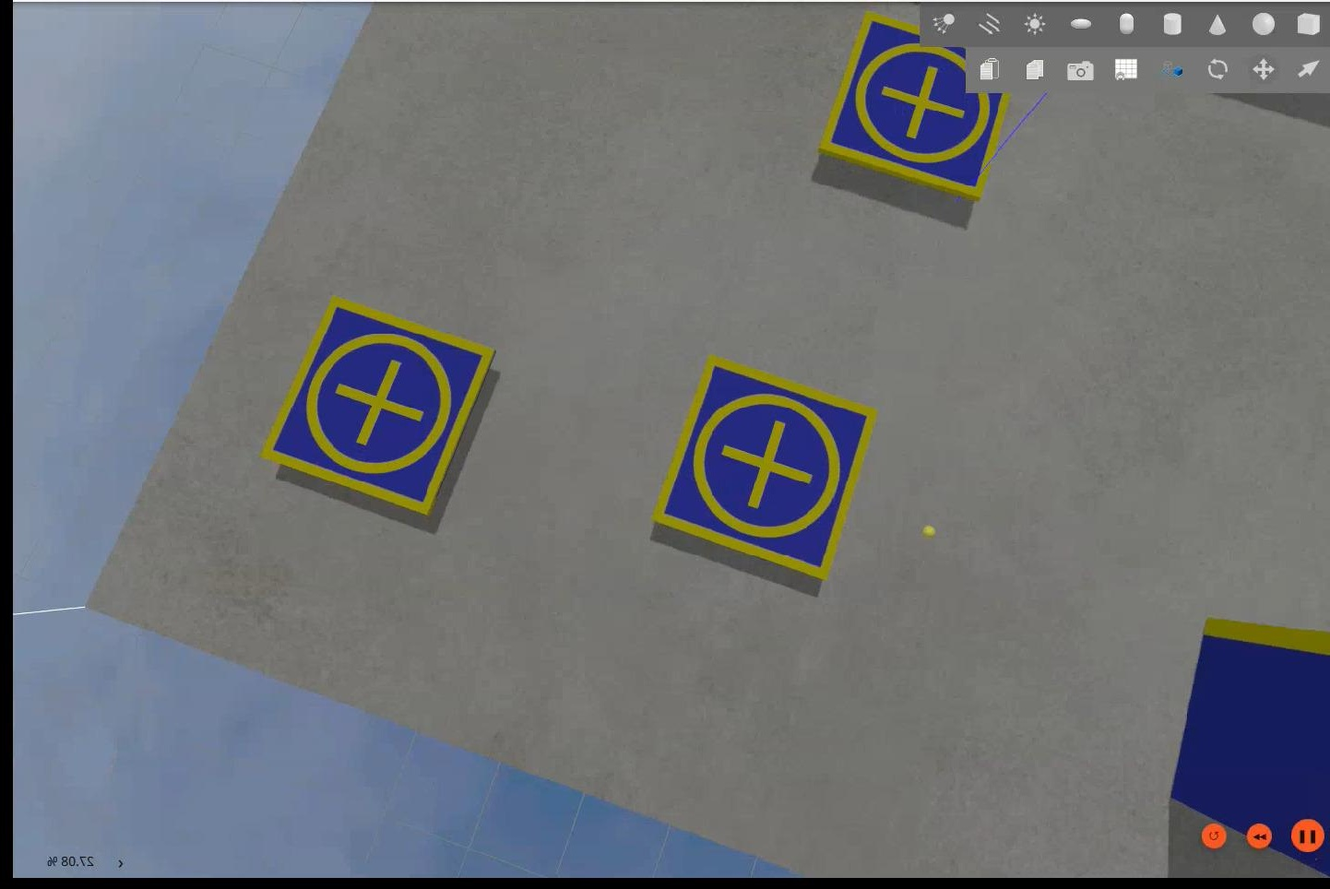small_base: (255, 299, 495, 520), (651, 356, 873, 582), (816, 10, 1017, 204)
